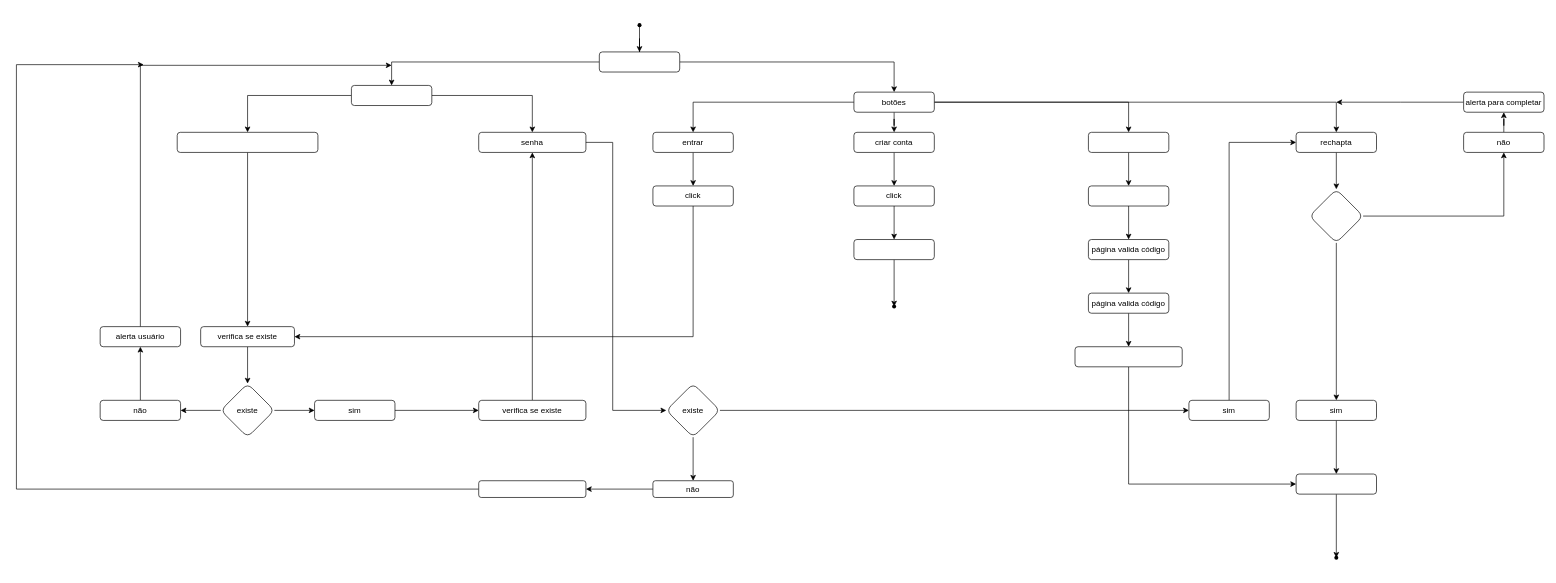
Image size: 1556x583. Some labels were removed from this diagram. Each missing label, with the centre of its shape:
alerta senha incorreta: the point at 532,488
campos: the point at 391,95
perdi a senha: the point at 1128,142
página cadastrar conta: the point at 893,249
página entrar-conta: the point at 639,61
página início: the point at 1336,483
página modificarssenha: the point at 1128,356
página validação: the point at 1128,195
telefone/email/usuário: the point at 247,142
validado: the point at 1336,216
